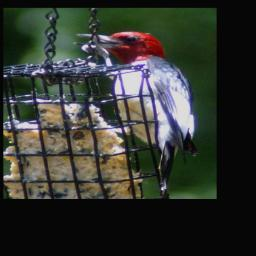Woodpecker: (70, 29, 198, 199)
